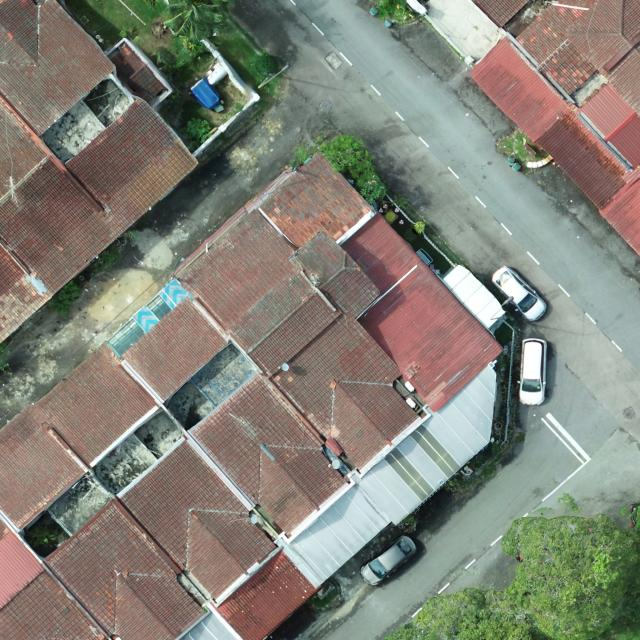tree: (500, 513, 640, 640), (379, 586, 530, 640), (163, 0, 230, 41), (318, 134, 372, 174), (356, 172, 387, 204), (185, 117, 211, 145), (254, 53, 282, 76)
